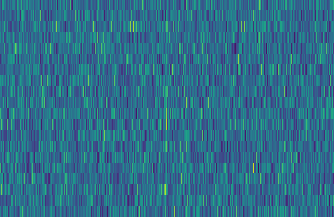signal: (161, 0, 170, 217)
